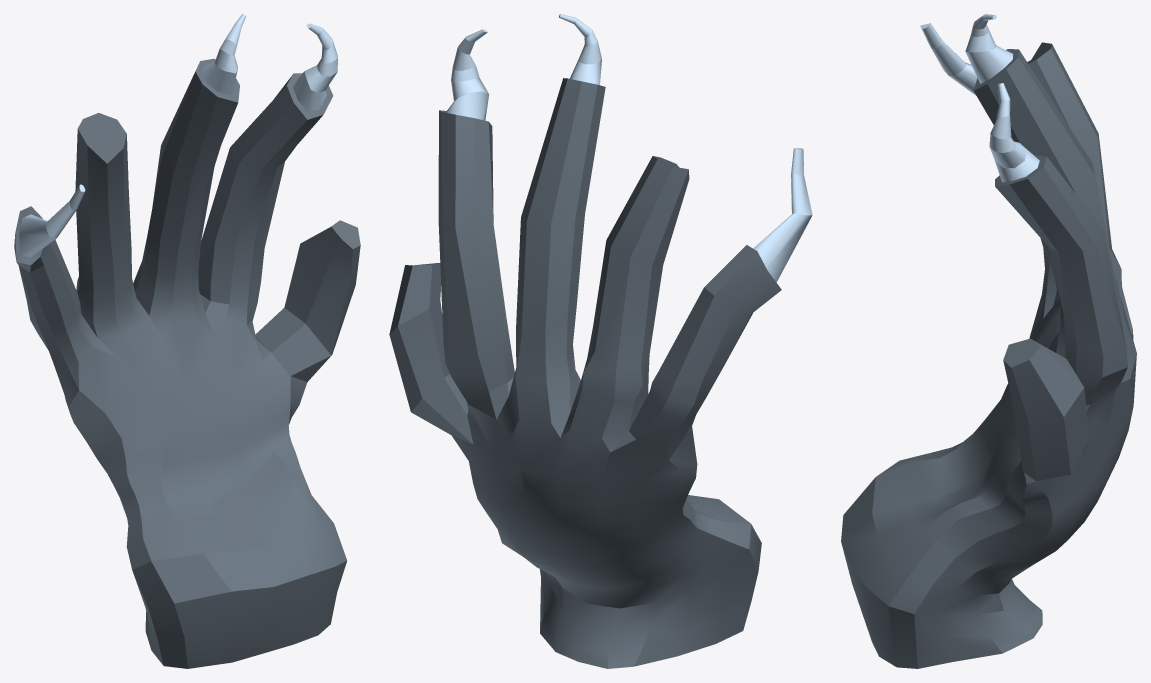
Rendered from HandChair.fbx.
3 renders of one model, left to right at view 1: azimuth 30°, elevation 25°; view 2: azimuth 150°, elevation 25°; view 3: azimuth 270°, elevation 25°, orthographic. The views are drawn at different scales.
Parts seen in each view (by area): view 1: HandChair; view 2: HandChair; view 3: HandChair.
Boxes of the visible parts, x1=… form: HandChair: x1=14, y1=14, x2=360, y2=668; HandChair: x1=389, y1=14, x2=812, y2=668; HandChair: x1=841, y1=14, x2=1136, y2=668.
Size of the model in its own units: 111 by 178 by 75.75.
